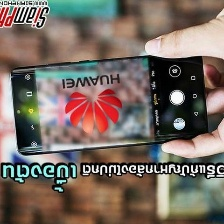phone: (6, 46, 211, 159)
